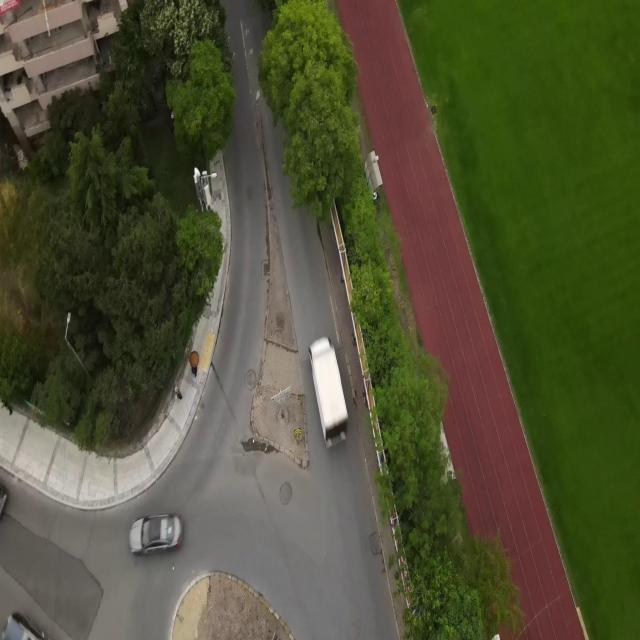p3rson: (174, 386, 183, 403), (372, 190, 380, 201)
